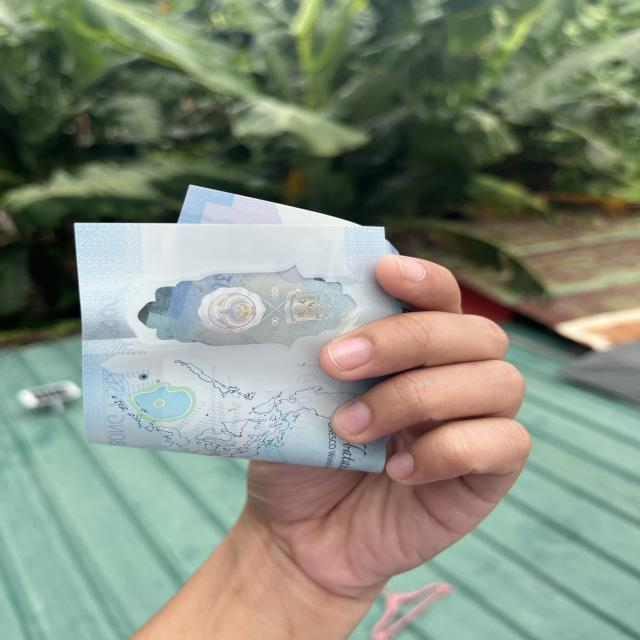clear_window: (75, 262, 391, 358)
